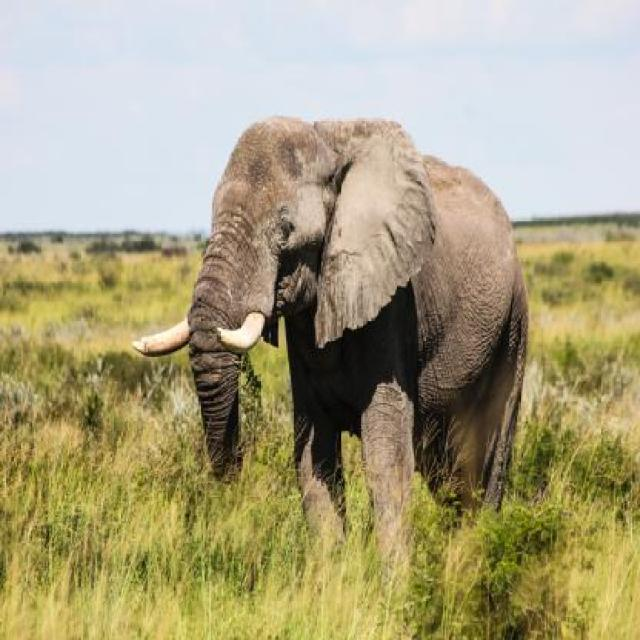Elephant: (129, 105, 542, 586)
